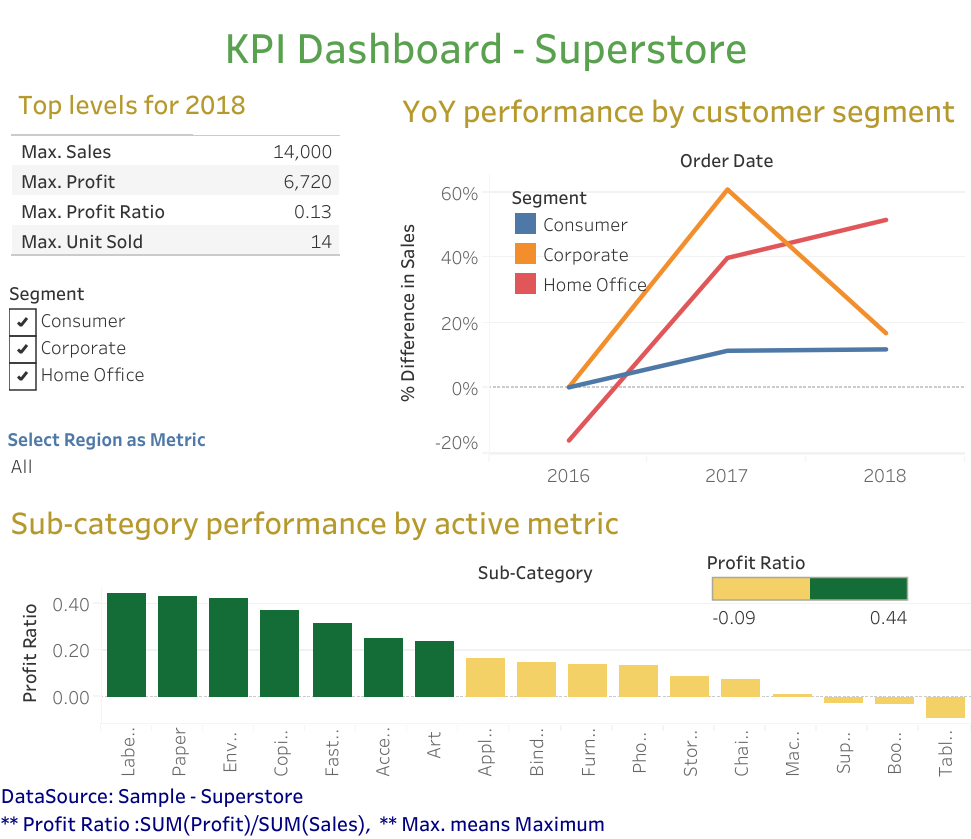

What the dashboard file says about the page in this screenshot:
{"tool":"tableau","page":{"name":"Dashboard 1","canvas":[650,860],"ordinal":0},"visuals":[{"type":"worksheet","box":[0,0,650,860]},{"type":"worksheet","param":"horz","box":[8,12.3,634,835.4]},{"type":"worksheet","param":"horz","box":[8,12.3,634,835.4]},{"type":"worksheet","param":"vert","box":[8,12.3,634,835.4]},{"type":"worksheet","box":[8,12.3,634,70.6]},{"type":"worksheet","title":"2018 Data","mark":"Automatic","box":[8,78.3,249,193.5]},{"type":"worksheet","title":"YoY performance by cust. segment","mark":"Automatic","cols":["Order Date"],"box":[263,80.9,382,428.4]},{"type":"worksheet","title":"YoY performance by cust. segment","mark":"Automatic","cols":["Order Date"],"param":"[federated.1blztf110hkfxj14h33341lhn2dp].[none:Segment:nk]","box":[341,184.3,109,130.5]},{"type":"worksheet","title":"YoY performance by cust. segment","mark":"Automatic","cols":["Order Date"],"param":"[federated.1blztf110hkfxj14h33341lhn2dp].[none:Segment:nk]","box":[6,284.1,167,150.5]},{"type":"worksheet","title":"Sub-cat performance by active metric","mark":"Automatic","rows":["vtmax"],"cols":["Sub-Category"],"param":"[federated.1blztf110hkfxj14h33341lhn2dp].[none:Region:nk]","box":[5,432.6,191,65.1]},{"type":"worksheet","title":"Sub-cat performance by active metric","mark":"Automatic","rows":["vtmax"],"cols":["Sub-Category"],"box":[3,503.7,646,293.3]},{"type":"worksheet","title":"Sub-cat performance by active metric","mark":"Automatic","rows":["vtmax"],"cols":["Sub-Category"],"param":"[federated.1blztf110hkfxj14h33341lhn2dp].[usr:Calculation_108930860351455232:vts","box":[472,554.4,140,95.2]}]}

Visuals, with their boxes on the page's 650x860 design canvas (x1, y1, x2, y2). These are canvas units, not pixel positions in the 971x839 screenshot, which may show the page scaled, cropped or inside an application window:
worksheet: crop(0, 0, 650, 860)
worksheet: crop(8, 12, 642, 848)
worksheet: crop(8, 12, 642, 848)
worksheet: crop(8, 12, 642, 848)
worksheet: crop(8, 12, 642, 83)
"2018 Data" worksheet: crop(8, 78, 257, 272)
"YoY performance by cust. segment" worksheet: crop(263, 81, 645, 509)
"YoY performance by cust. segment" worksheet: crop(341, 184, 450, 315)
"YoY performance by cust. segment" worksheet: crop(6, 284, 173, 435)
"Sub-cat performance by active metric" worksheet: crop(5, 433, 196, 498)
"Sub-cat performance by active metric" worksheet: crop(3, 504, 649, 797)
"Sub-cat performance by active metric" worksheet: crop(472, 554, 612, 650)
